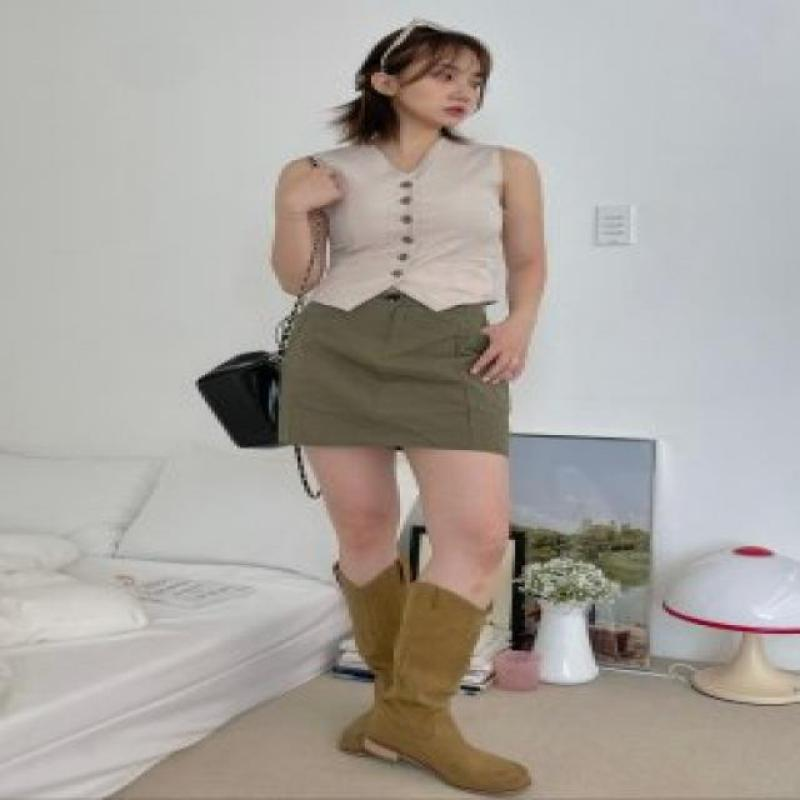skirt: (276, 288, 515, 456)
vest: (303, 135, 512, 314)
